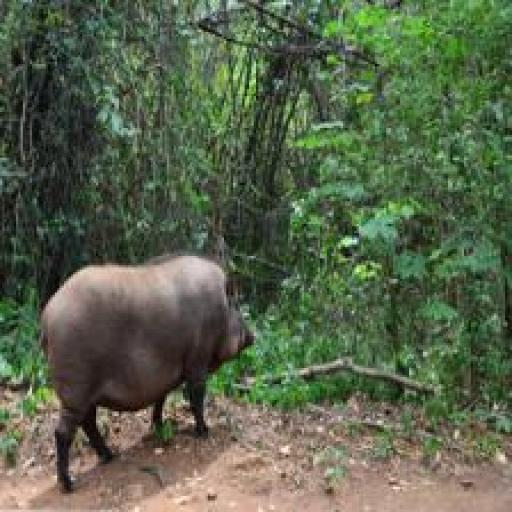Pig: (28, 256, 260, 495)
